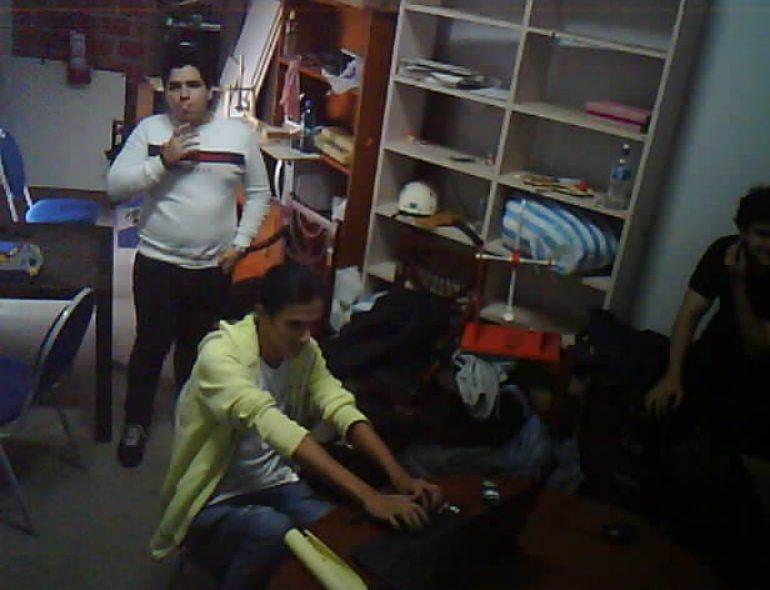person: (165, 242, 449, 590), (106, 38, 284, 484), (639, 165, 770, 526)
